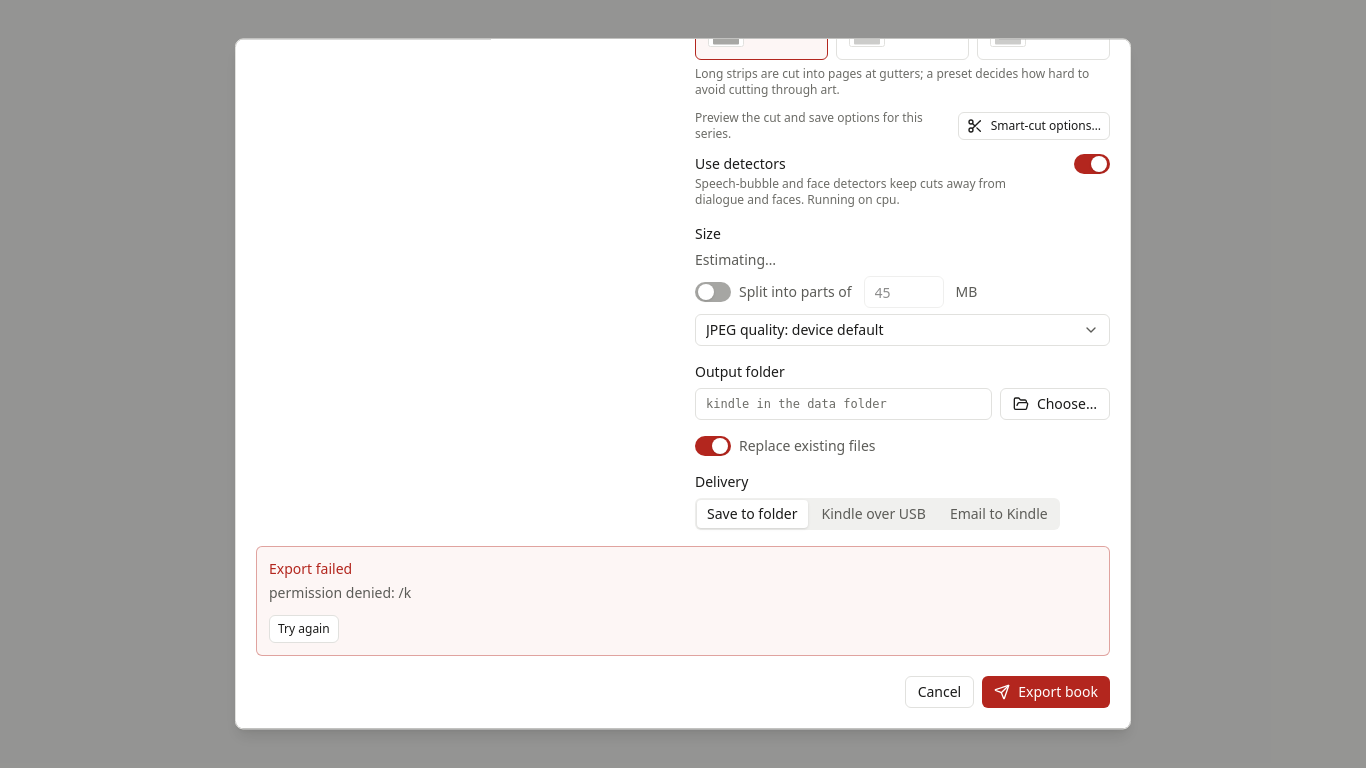
export dialog: Try again after a failed export › exports again with the same options
The width and height of the screenshot is (1366, 768).
Earlier steps of the test are not shown.
(page scrolled)
Expected: the text "permission denied: /k" is shown, [269,583,411,602]
Click the button "Try again".
click(304, 629)  # box [269,615,339,643]
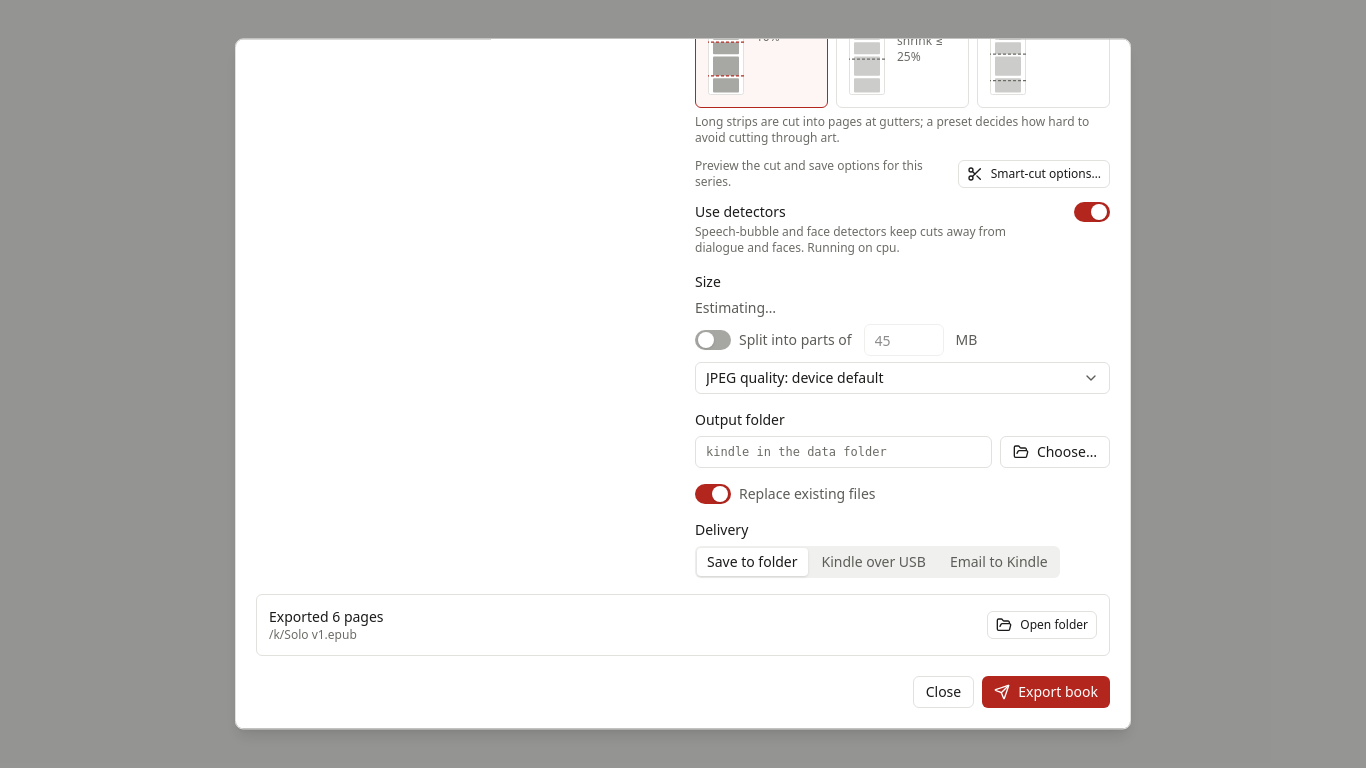
Result: the text "Exported 6 pages" is shown at [269,607,384,627]
